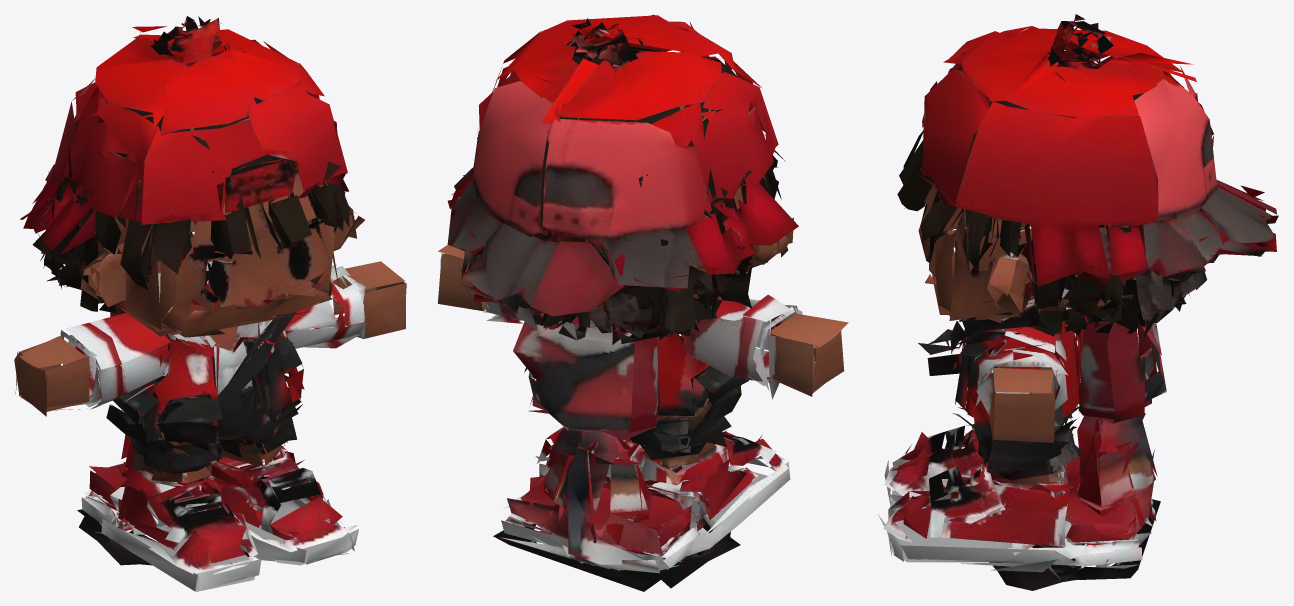
The model's file is ace_game.glb.
3 views of the same model, side by side, from view 1: azimuth 30°, elevation 25°; view 2: azimuth 150°, elevation 25°; view 3: azimuth 270°, elevation 25° (orthographic). The views are drawn at different scales.
Parts seen in each view (by area): view 1: Body; view 2: Body; view 3: Body.
Part boxes in pixels (x1=…): Body: x1=14, y1=16, x2=406, y2=591; Body: x1=438, y1=14, x2=848, y2=591; Body: x1=878, y1=14, x2=1278, y2=590.
Size of the model in its own units: 0.5536 by 0.7293 by 0.5037.
1 material, 1 textured.
